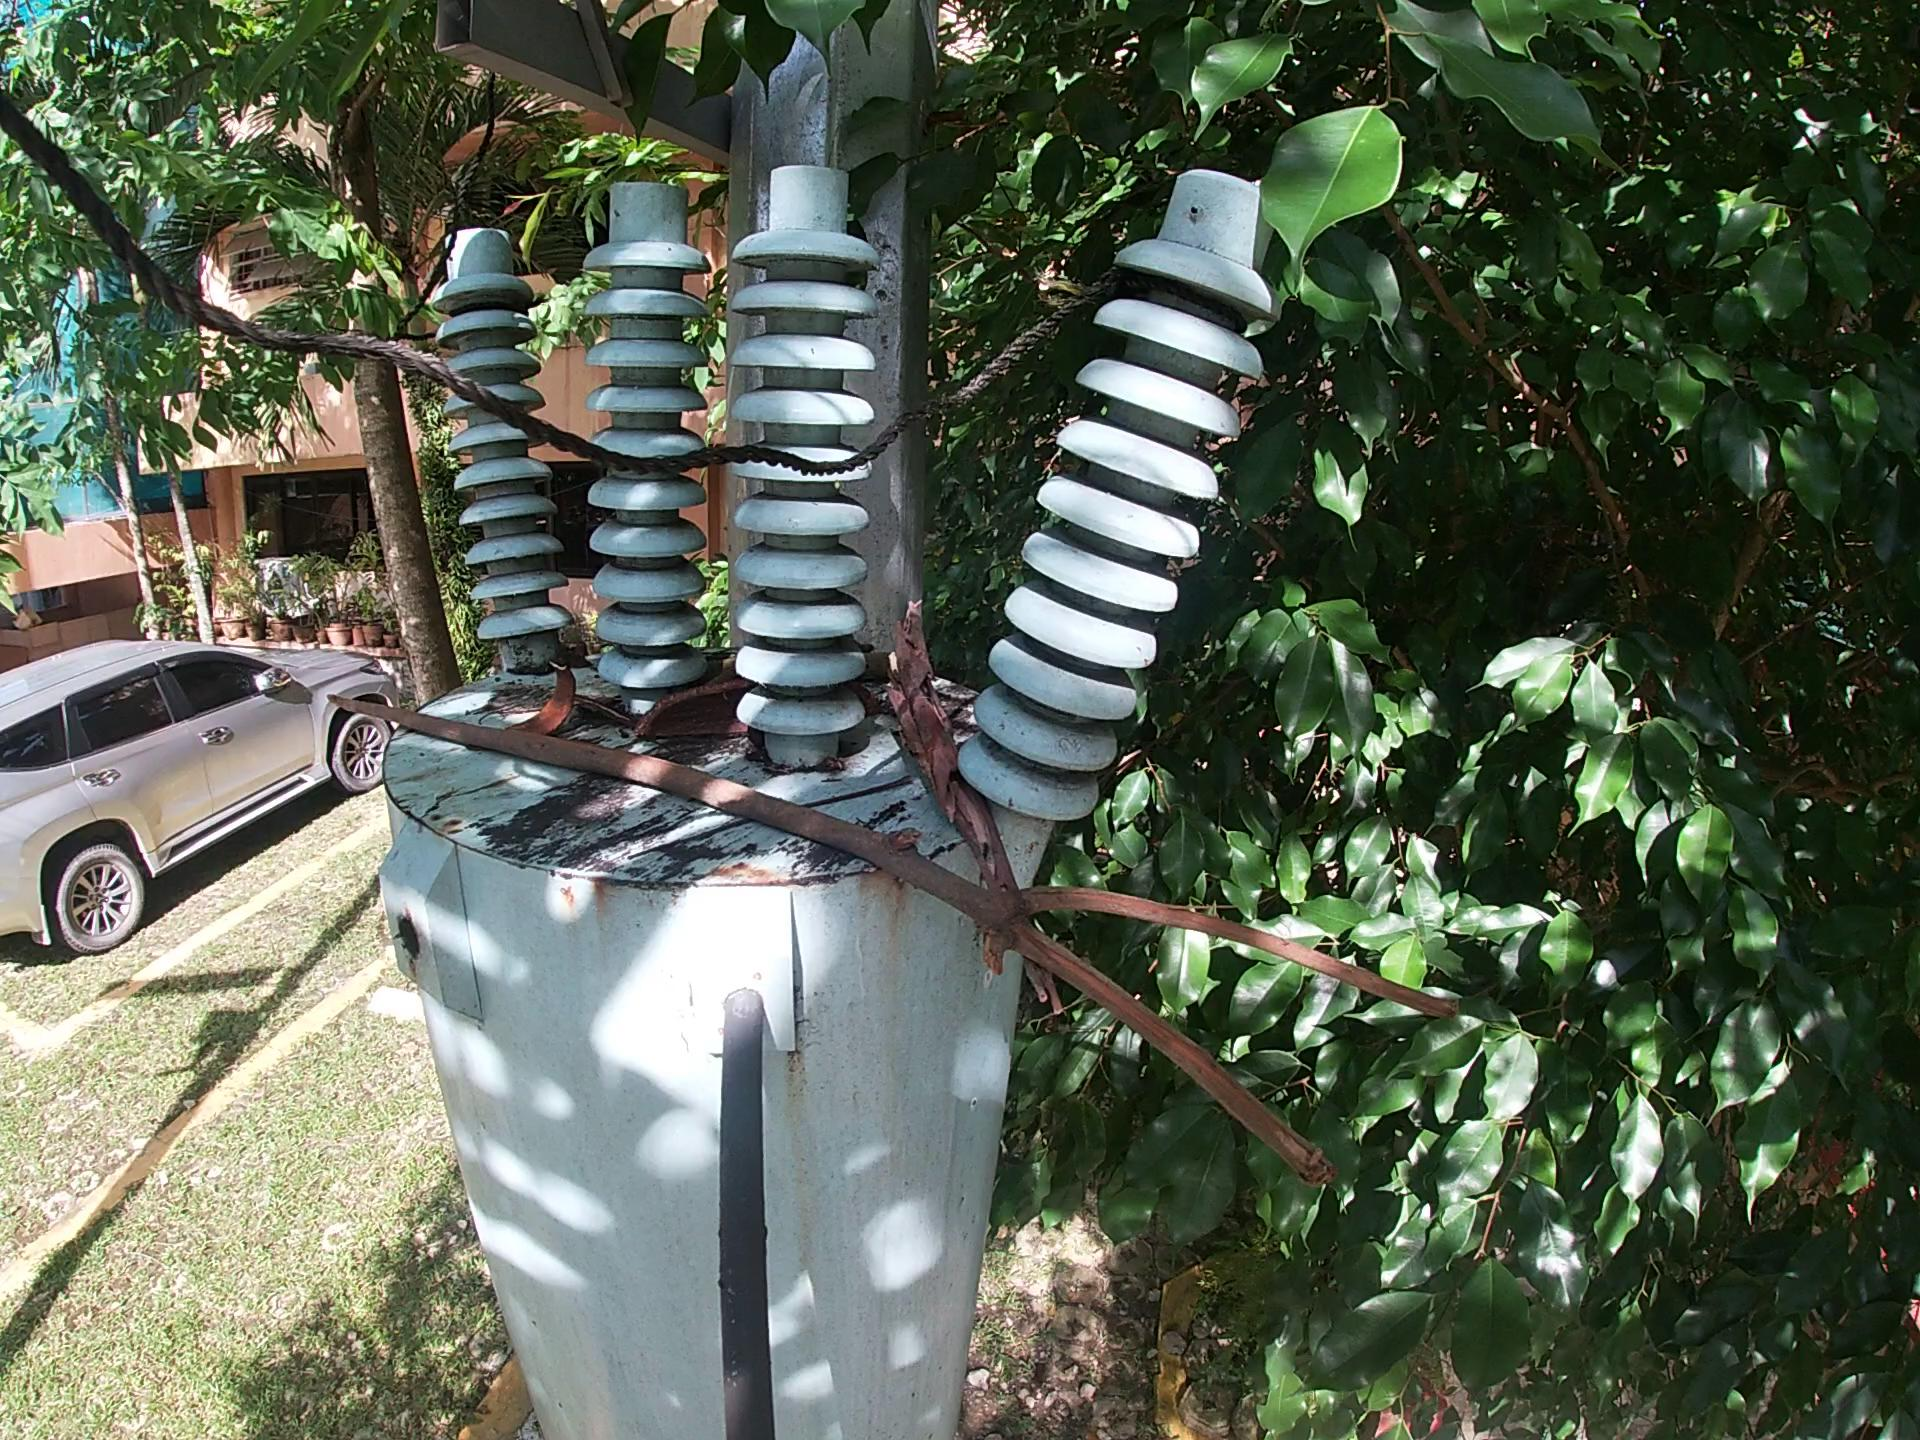mahogany fruit: (630, 678, 766, 747), (500, 658, 581, 740)
tree branch: (322, 684, 1473, 1190), (880, 594, 1067, 1032)
